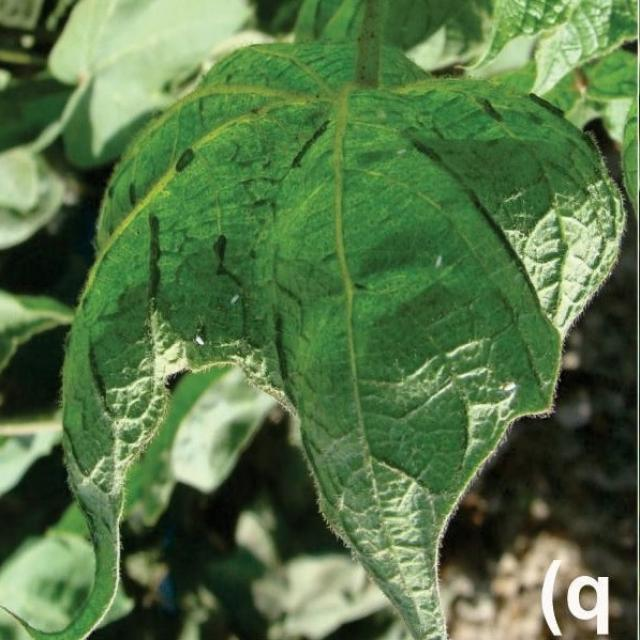Leaf Curl Virus: (92, 117, 610, 448)
